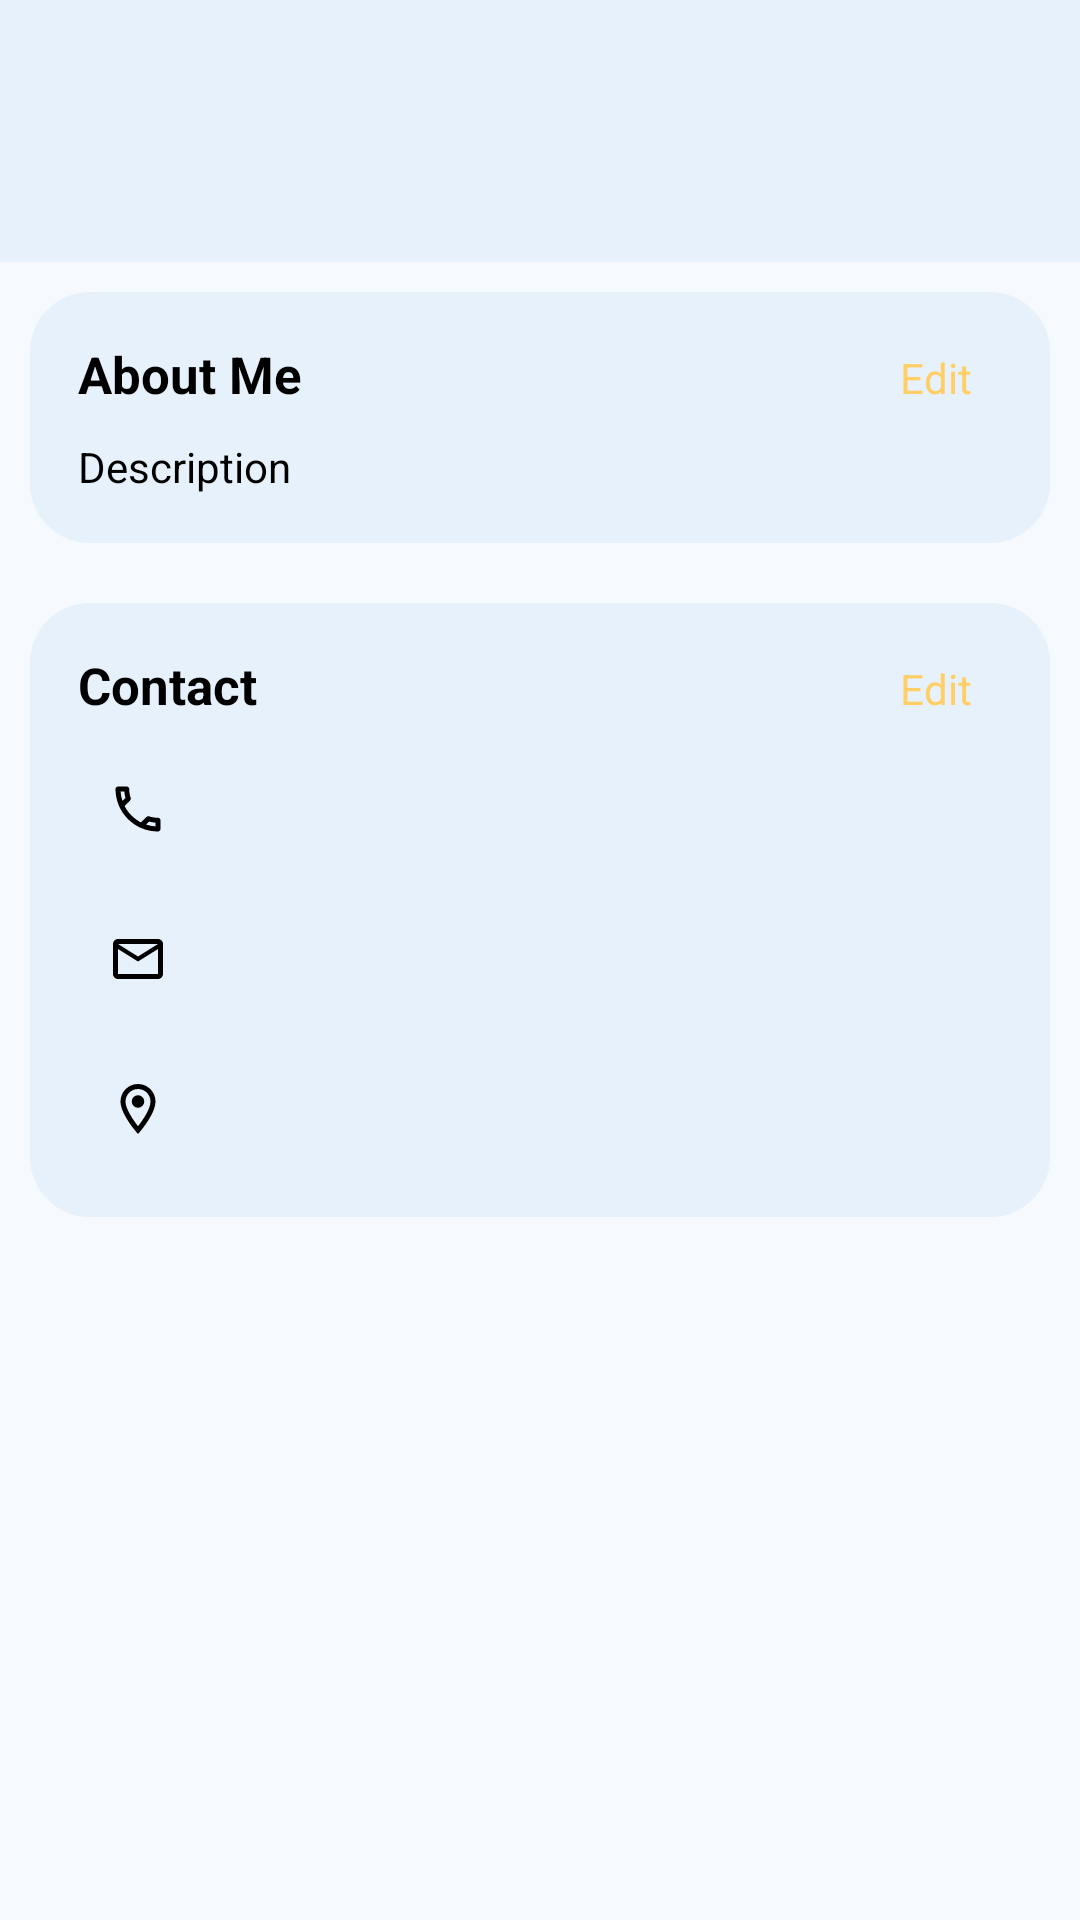

Where to tap for icons on this 1080x1920 app screen, as (x,y):
call: (138,809)
email: (138,959)
location: (138,1109)
